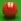red: (0, 0, 21, 21)
